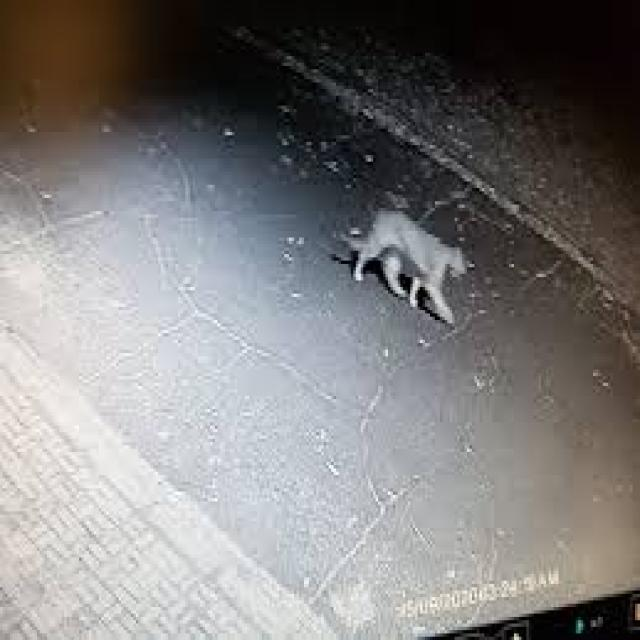Jaguar: (351, 201, 469, 333)
